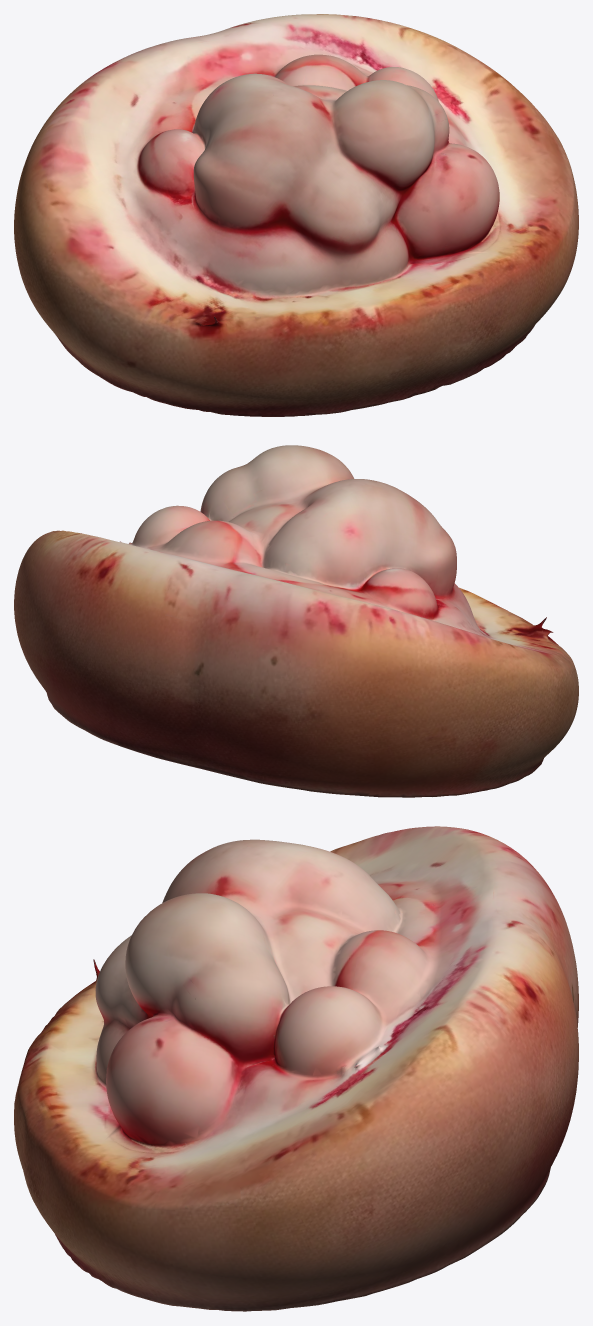
File: skin-mast-cell.glb
3 renders of one model, top to bottom at view 1: azimuth 30°, elevation 25°; view 2: azimuth 150°, elevation 25°; view 3: azimuth 270°, elevation 25°, orthographic. The views are drawn at different scales.
Visible parts, largest first — view 1: model; view 2: model; view 3: model.
Boxes of the visible parts, x1,y1,x2,y2 form: model: [14, 14, 578, 416]; model: [14, 445, 578, 797]; model: [14, 826, 578, 1311].
Size of the model in its own units: 1.89 by 0.9121 by 1.42.
Materials: 1 (1 with a texture image).
